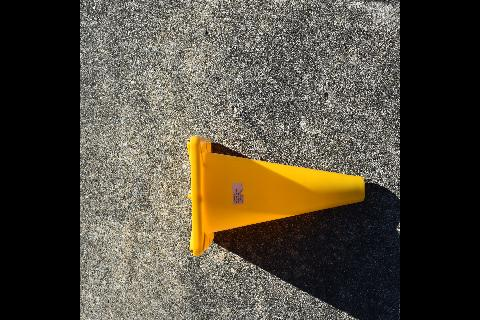cone: (186, 134, 366, 256)
